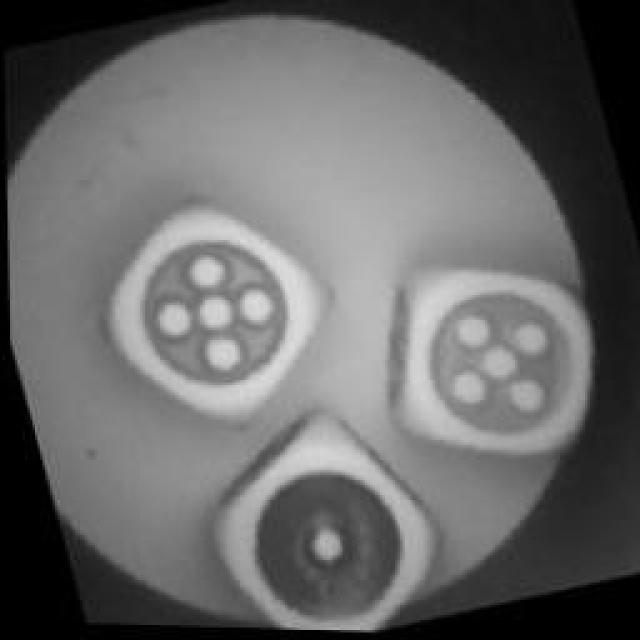dice_1: (180, 403, 462, 635)
dice_5: (75, 180, 340, 440), (358, 252, 618, 490)
